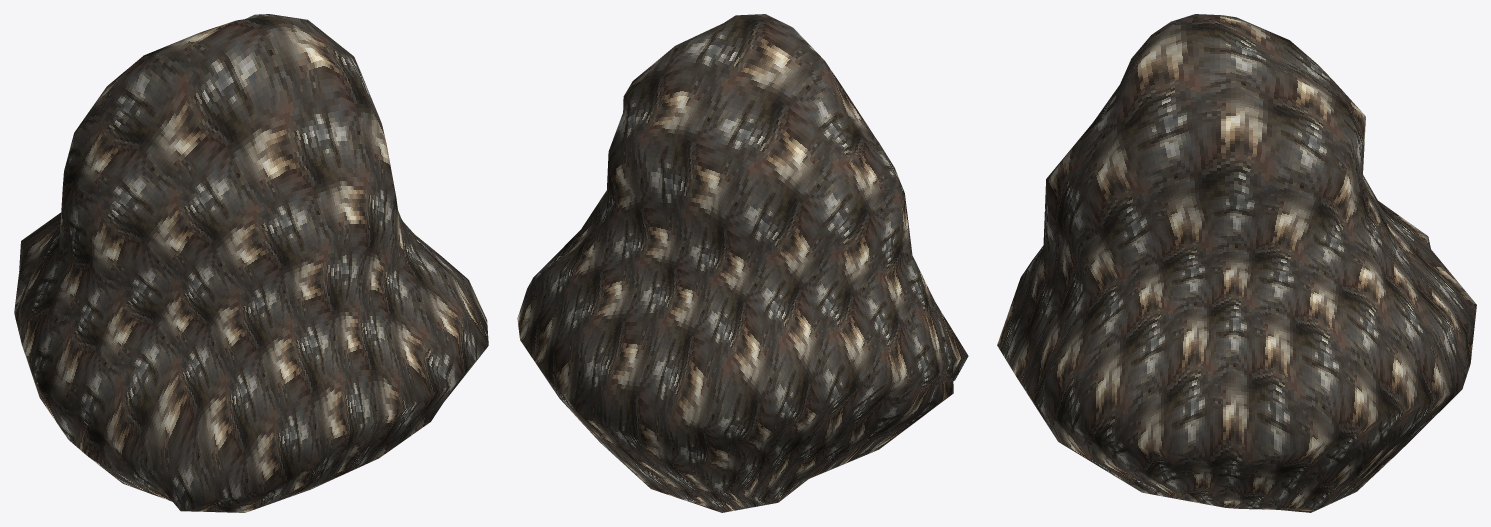
File: smoughMass.FBX
The picture shows the model from 3 angles, left to right: view 1: azimuth 30°, elevation 25°; view 2: azimuth 150°, elevation 25°; view 3: azimuth 270°, elevation 25°; orthographic projection. The views are drawn at different scales.
Parts seen in each view (by area): view 1: GeoSphere001; view 2: GeoSphere001; view 3: GeoSphere001.
Part boxes in pixels (left/top/right/bottom): GeoSphere001: left=14, top=14, right=488, bottom=512; GeoSphere001: left=517, top=14, right=968, bottom=512; GeoSphere001: left=997, top=14, right=1476, bottom=512.
Size of the model in its own units: 79.61 by 89.95 by 81.11.
1 material, 1 textured.
